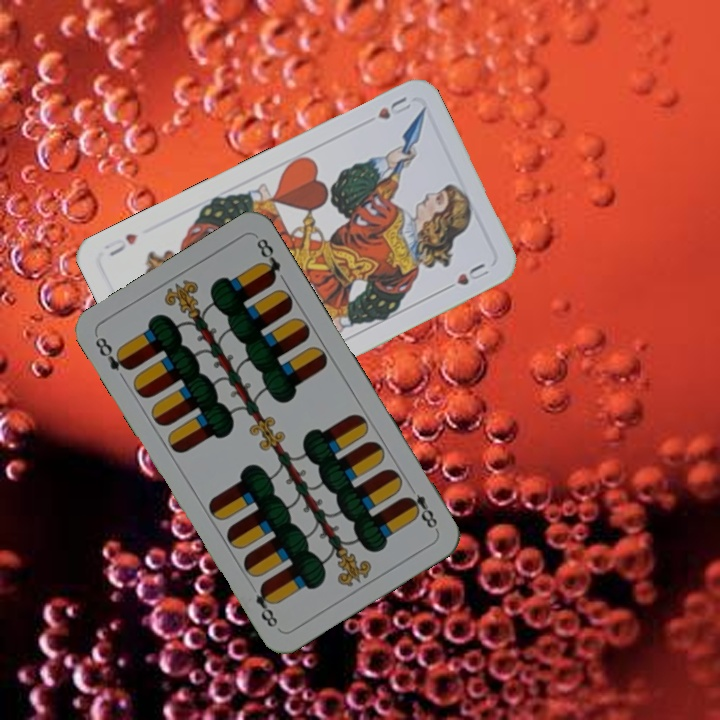E8: (401, 480, 441, 533), (91, 332, 134, 374)
HU: (373, 92, 414, 122)
